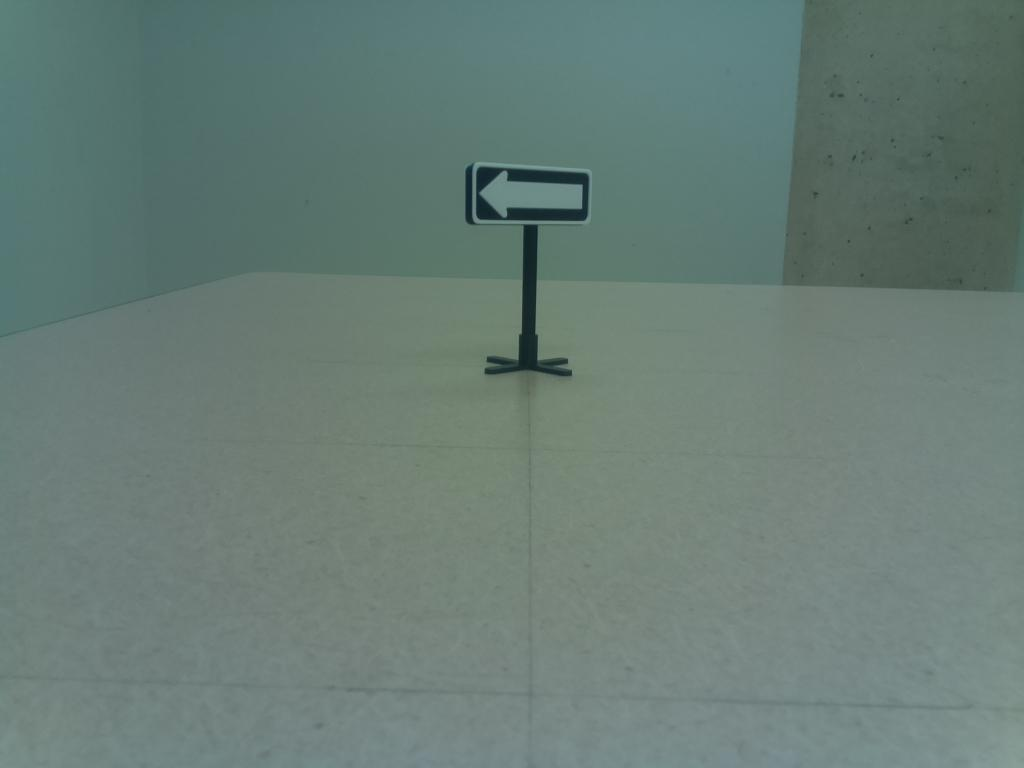sign_oneway_left: (457, 156, 599, 236)
